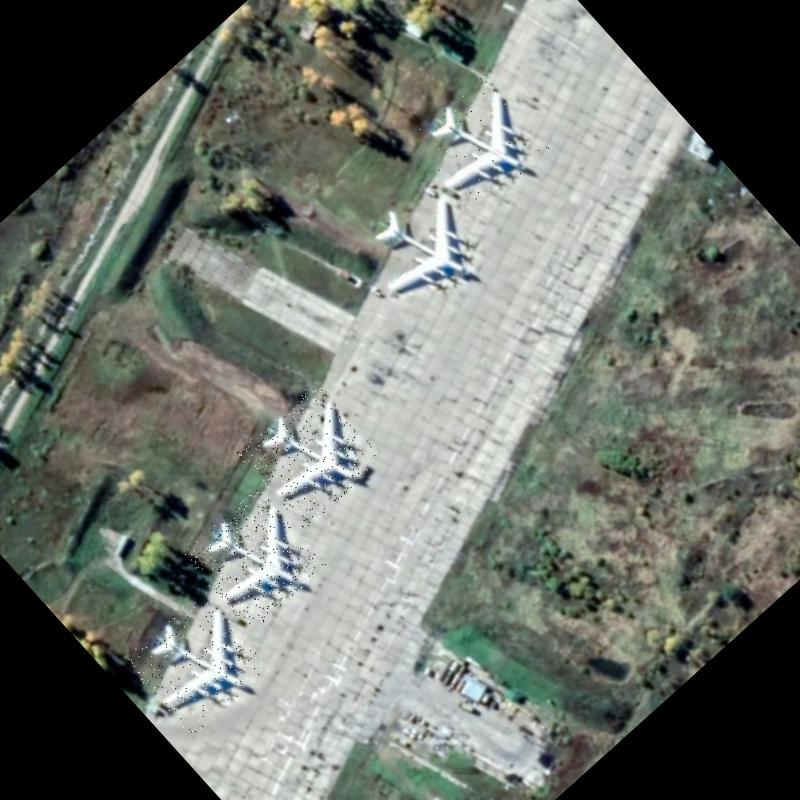A17: (402, 70, 551, 219), (236, 380, 384, 528), (123, 588, 270, 736), (181, 486, 327, 632), (348, 177, 494, 323)
